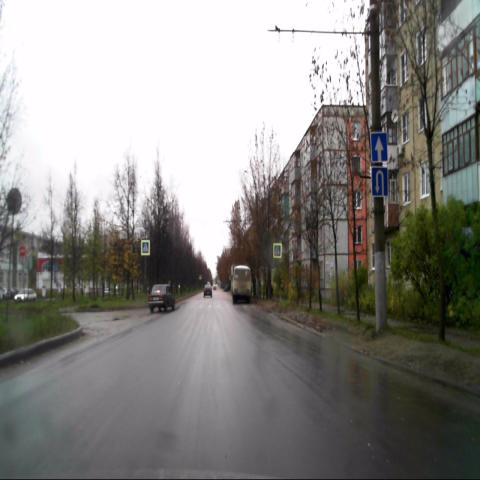5_5: (370, 132, 388, 162)
6_3_1: (372, 166, 388, 196)
